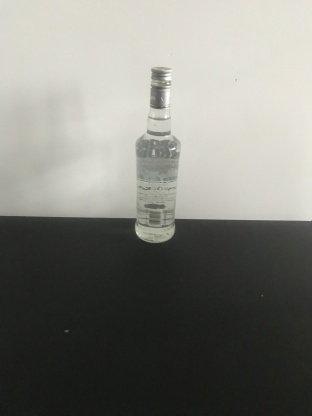nakretka: (148, 63, 173, 109)
